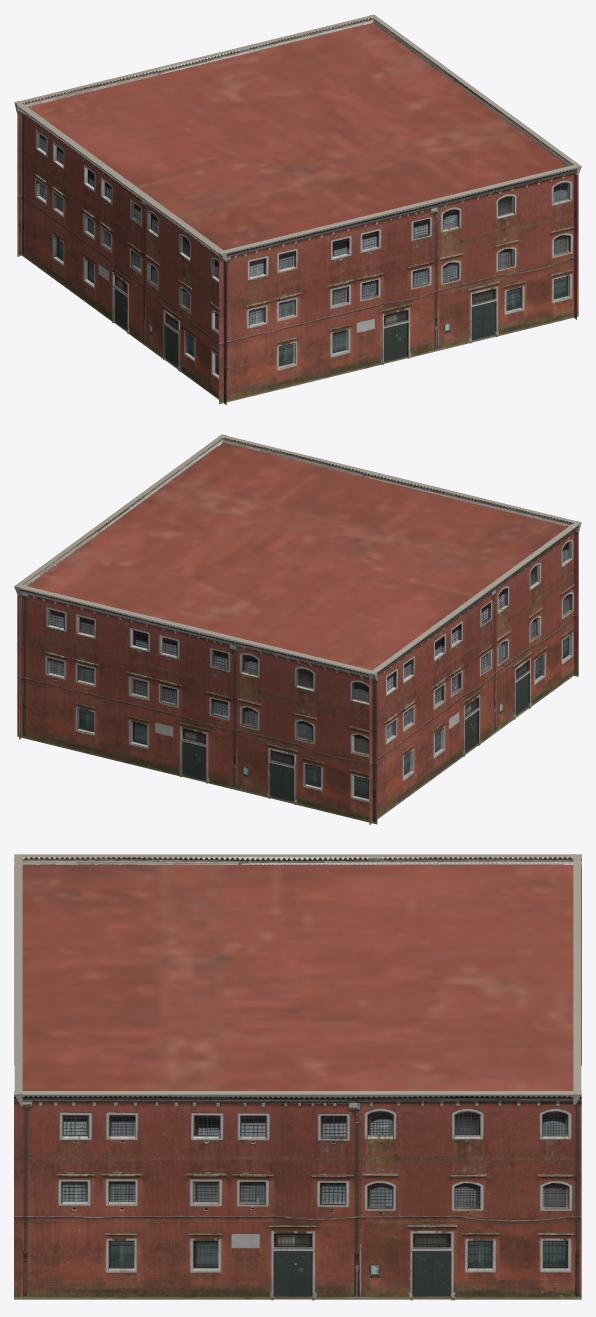
The model's file is building 8.fbx.
3 renders of one model, top to bottom at view 1: azimuth 30°, elevation 25°; view 2: azimuth 150°, elevation 25°; view 3: azimuth 270°, elevation 25°, orthographic. The views are drawn at different scales.
Parts seen in each view (by area): view 1: Plane; view 2: Plane; view 3: Plane.
Boxes of the visible parts, x1,y1,x2,y2 form: Plane: (14,14,581,404); Plane: (14,434,581,825); Plane: (14,854,581,1300).
Bounding box in the file's own units: 247 × 100 × 246.
